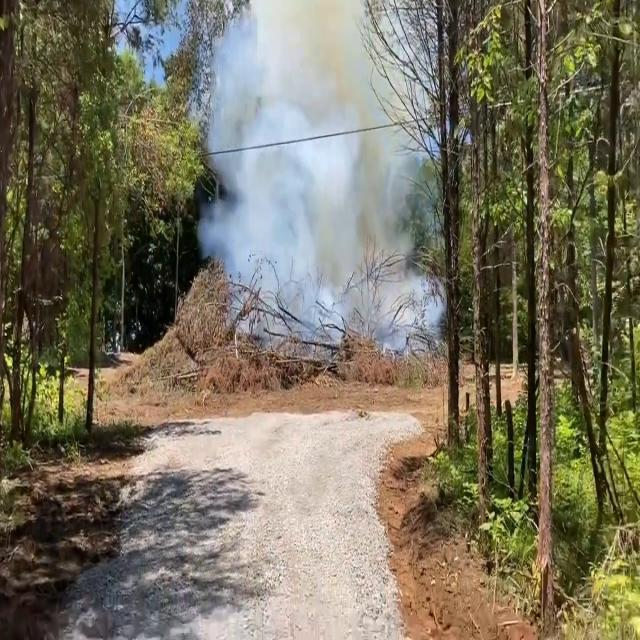Smoke: (197, 1, 441, 348)
